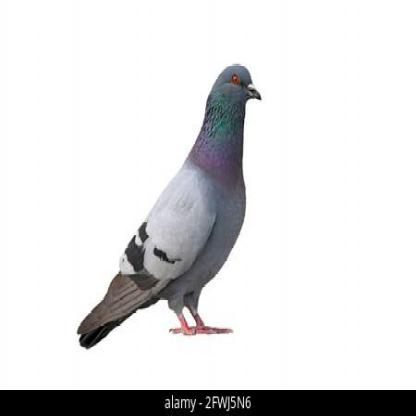Rock Pigeon: (76, 61, 267, 353)
